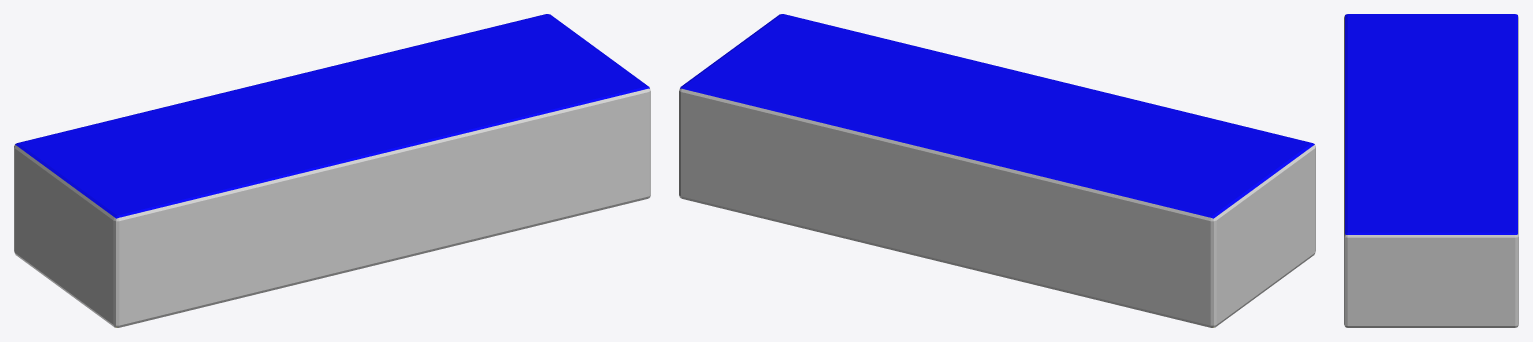
Rendered from nut_case.glb.
3 renders of one model, left to right at view 1: azimuth 30°, elevation 25°; view 2: azimuth 150°, elevation 25°; view 3: azimuth 270°, elevation 25°, orthographic. The views are drawn at different scales.
Visible parts, largest first — view 1: Cube; view 2: Cube; view 3: Cube.
Boxes of the visible parts, <box> form: Cube: <box>14,14,650,327</box>; Cube: <box>679,14,1315,327</box>; Cube: <box>1344,14,1518,327</box>.
Size of what is drawn, in the model's own units: 0.15 by 0.03 by 0.05.
